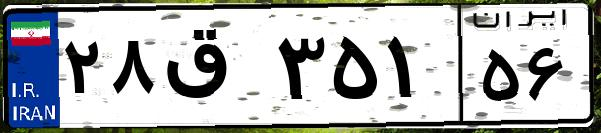1: (385, 28, 445, 110)
2: (57, 26, 110, 100)
3: (270, 28, 330, 110)
5: (330, 28, 385, 110), (475, 38, 525, 113)
6: (525, 38, 570, 115)
8: (110, 28, 158, 98)
ق: (158, 20, 270, 120)
